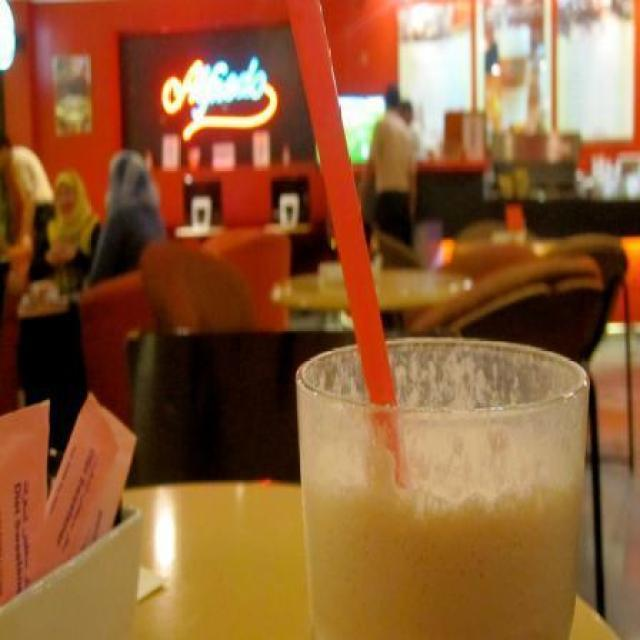Juice: (298, 336, 596, 634)
